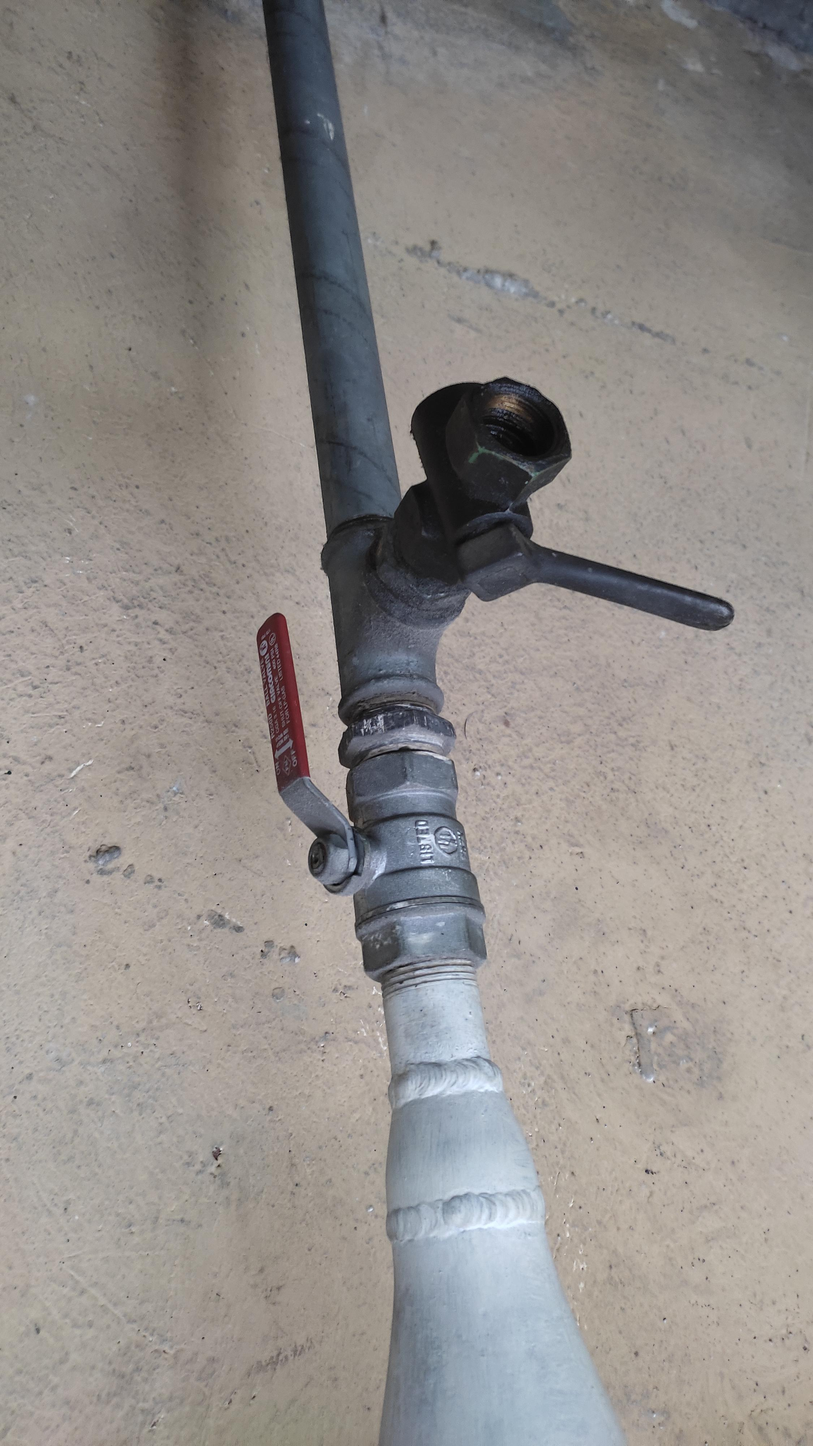closed valve: (363, 361, 771, 648)
opened valve: (244, 611, 497, 993)
